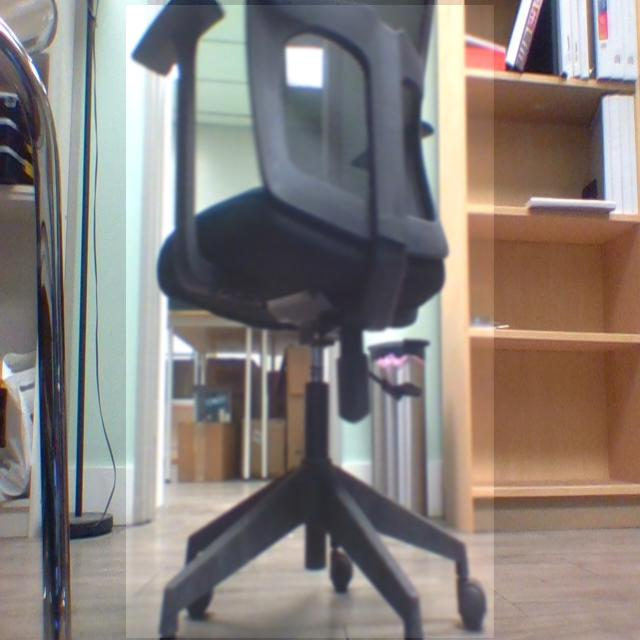black-chair: (126, 5, 495, 639)
